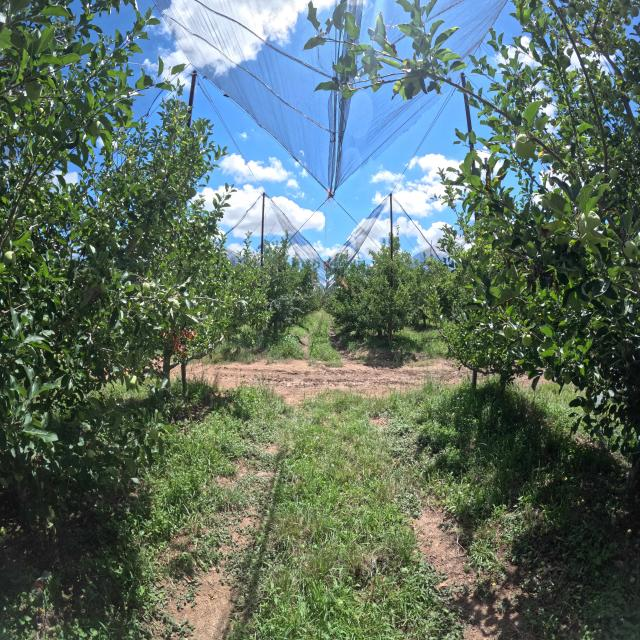-FireBlight-: (158, 322, 200, 358)
